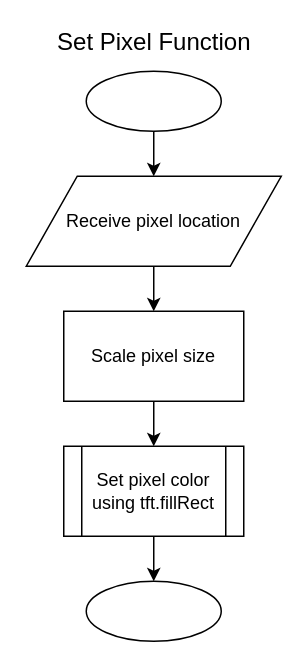
The diagram is 308 pixels wide and 668 high, and some of its shapes have lost their labels. The shapes that lost their labels are listed below. From the top down, each one's centre as x and y in pixels, then its label:
At point 153,100: "Start".
At point 153,610: "End".
